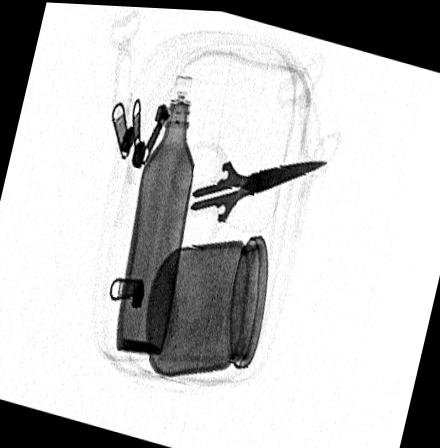Scissors: (163, 136, 328, 269)
